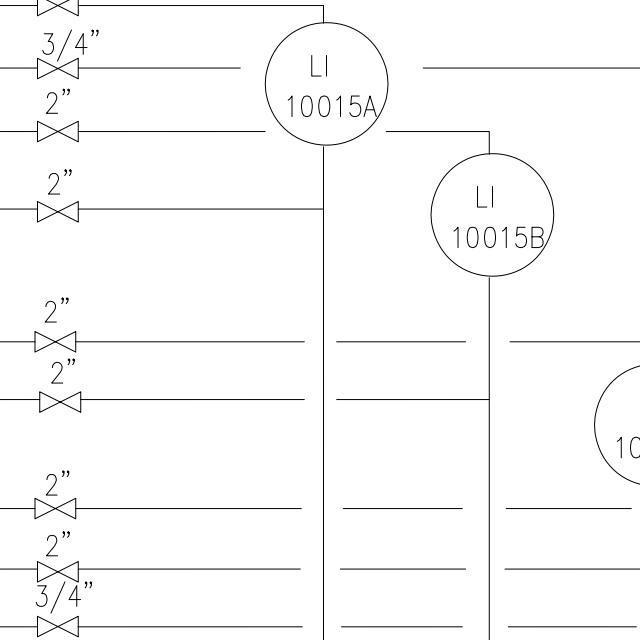GV: (32, 387, 87, 415), (32, 116, 83, 145), (29, 327, 80, 356), (32, 53, 81, 82), (32, 197, 82, 225), (31, 495, 80, 523), (33, 559, 82, 585)
